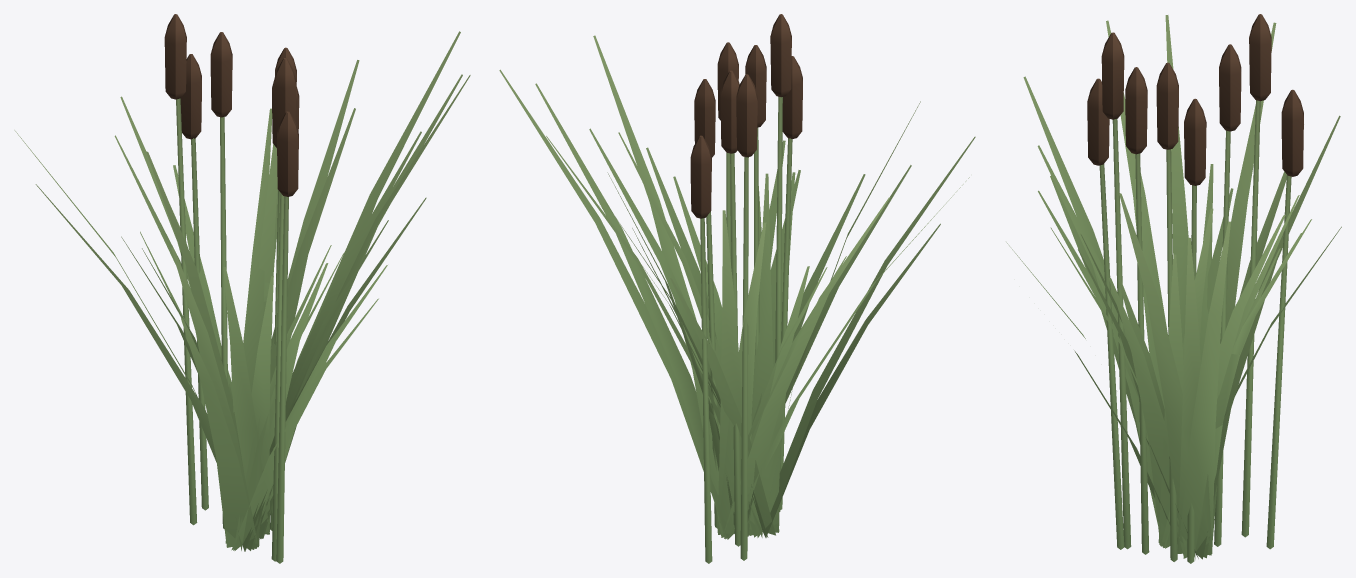
The model's file is reed_clump.glb.
3 renders of one model, left to right at view 1: azimuth 30°, elevation 25°; view 2: azimuth 150°, elevation 25°; view 3: azimuth 270°, elevation 25°, orthographic. The views are drawn at different scales.
Visible parts, largest first — view 1: v1, v0; view 2: v0, v1; view 3: v0, v1.
Part boxes in pixels (left/top/right/bottom): v1: left=140, top=32, right=426, bottom=561; v0: left=14, top=14, right=470, bottom=563; v0: left=499, top=35, right=969, bottom=563; v1: left=546, top=14, right=975, bottom=546; v0: left=1006, top=14, right=1340, bottom=561; v1: left=1023, top=20, right=1341, bottom=563.
Size of what is drawn, in the model's own units: 1.13 by 1.2 by 0.7126.
